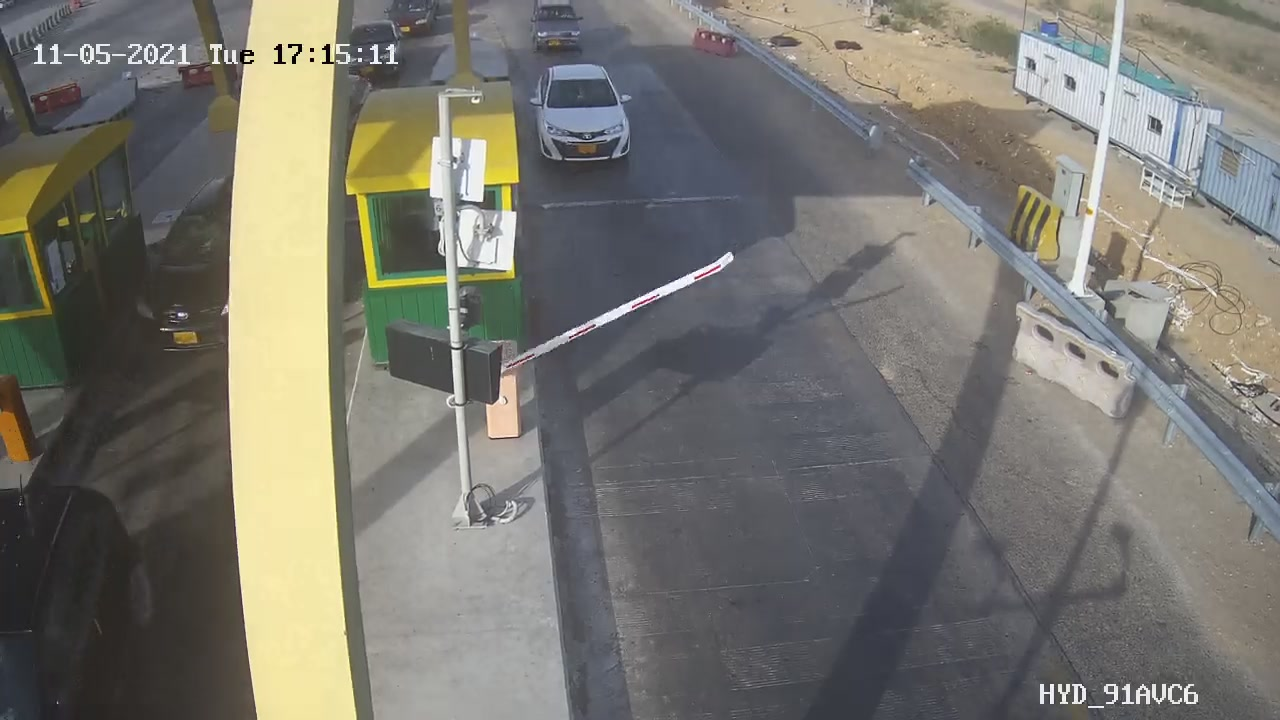F1: (516, 49, 652, 175)
